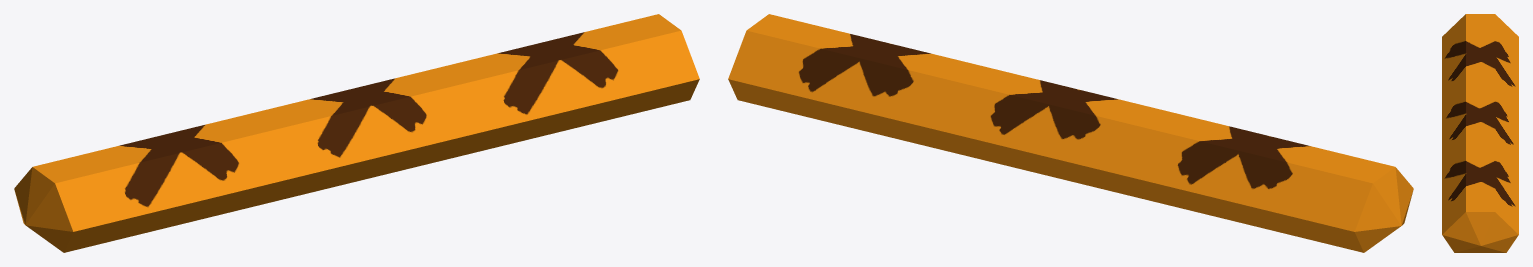
Rendered from yut-rhino.glb.
3 renders of one model, left to right at view 1: azimuth 30°, elevation 25°; view 2: azimuth 150°, elevation 25°; view 3: azimuth 270°, elevation 25°, orthographic. The views are drawn at different scales.
Parts seen in each view (by area): view 1: Cylinder.008; view 2: Cylinder.008; view 3: Cylinder.008.
Boxes of the visible parts, bbox=[...] form: Cylinder.008: bbox=[14, 14, 699, 252]; Cylinder.008: bbox=[728, 14, 1413, 252]; Cylinder.008: bbox=[1442, 14, 1518, 252].
Size of the model in its own units: 10.36 by 0.9511 by 1.62.
Materials: 2 (2 with a texture image).
